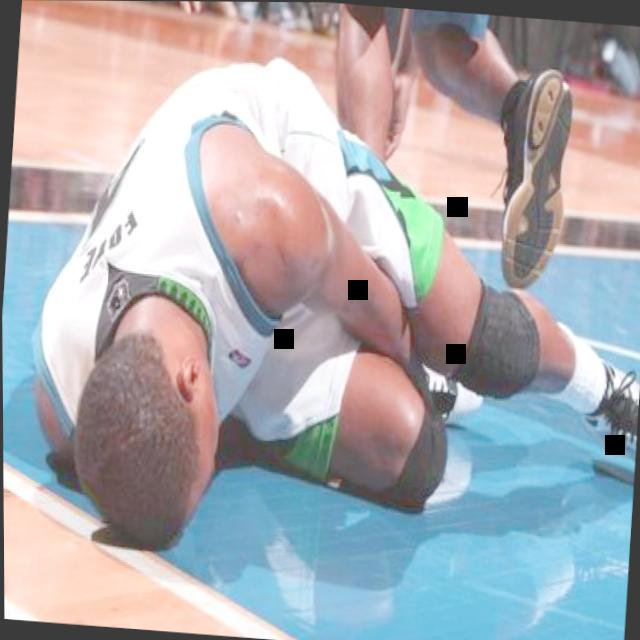Fall-Detected: (13, 3, 640, 595)
